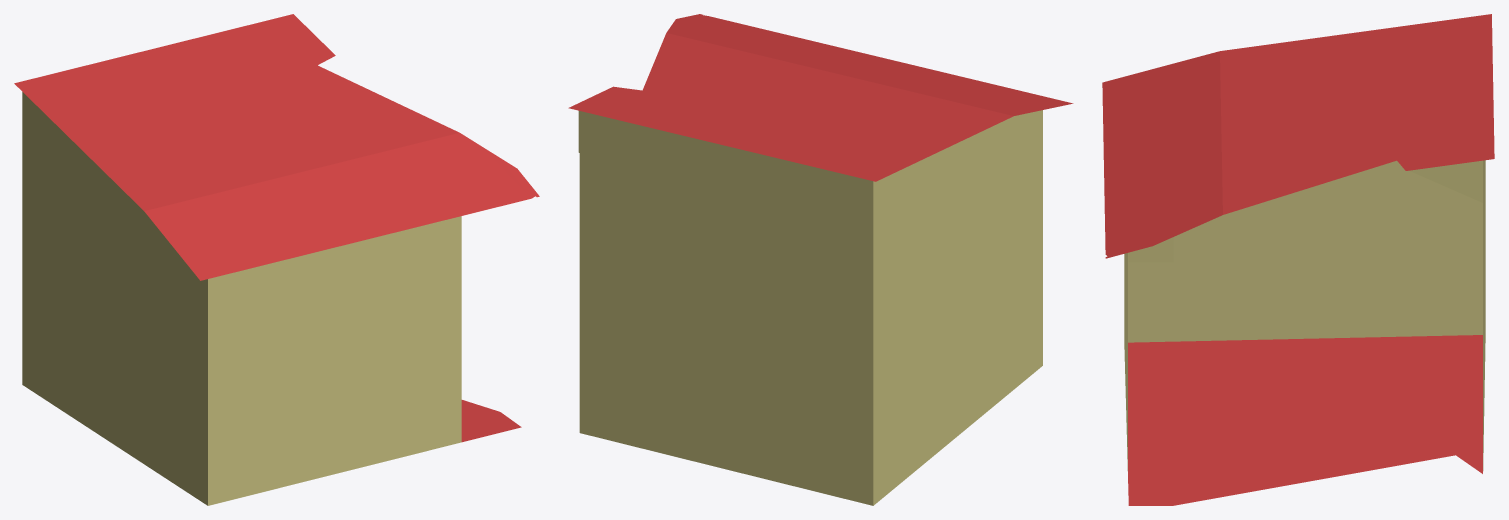
3 renders of one model, left to right at view 1: azimuth 30°, elevation 25°; view 2: azimuth 150°, elevation 25°; view 3: azimuth 270°, elevation 25°, orthographic. The views are drawn at different scales.
Size of the model in its own units: 12.22 by 11.41 by 10.21.
